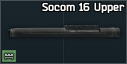M1A SOCOM 16 upper part: (0, 0, 127, 64)
